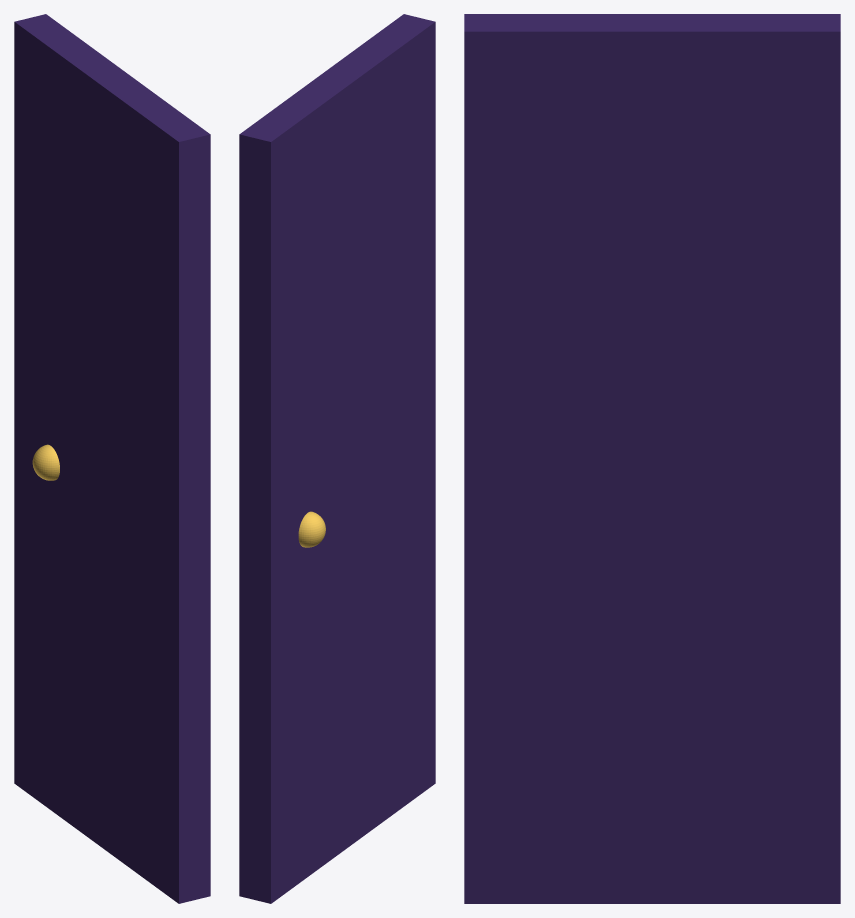
The model's file is portadireita.gltf.
3 views of the same model, side by side, from view 1: azimuth 30°, elevation 25°; view 2: azimuth 150°, elevation 25°; view 3: azimuth 270°, elevation 25° (orthographic). The views are drawn at different scales.
Visible parts, largest first — view 1: estrutura porta direita, maçaneta direita; view 2: estrutura porta direita, maçaneta direita; view 3: estrutura porta direita.
Part boxes in pixels (left/top/right/bottom): estrutura porta direita: left=14, top=14, right=210, bottom=903; maçaneta direita: left=32, top=444, right=59, bottom=480; estrutura porta direita: left=239, top=14, right=435, bottom=903; maçaneta direita: left=298, top=511, right=325, bottom=547; estrutura porta direita: left=464, top=14, right=840, bottom=903.
Size of the model in its own units: 0.0938 by 1.44 by 0.5625.
2 materials, 2 textured.
